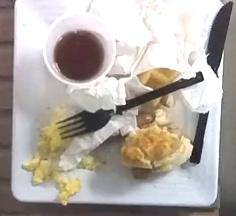biscuit: (121, 124, 193, 178)
scrambled_eggs: (21, 122, 79, 204)
waffle: (137, 68, 180, 89)
